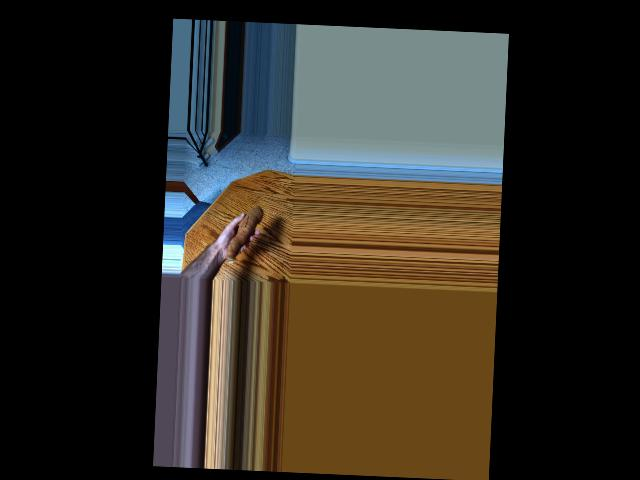sweet_potato: (221, 202, 264, 265)
